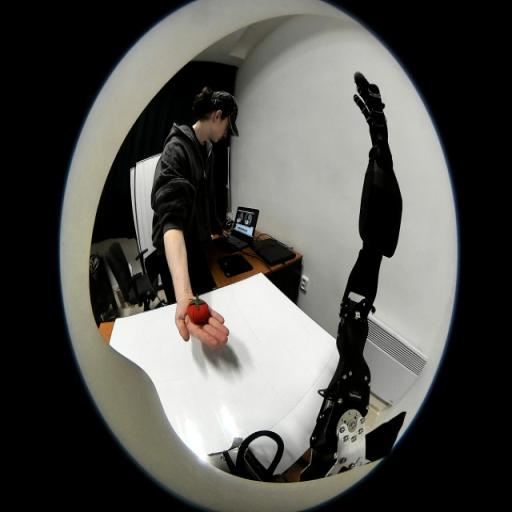RightHand: (370, 112, 388, 145)
Tomato: (187, 298, 209, 325)
